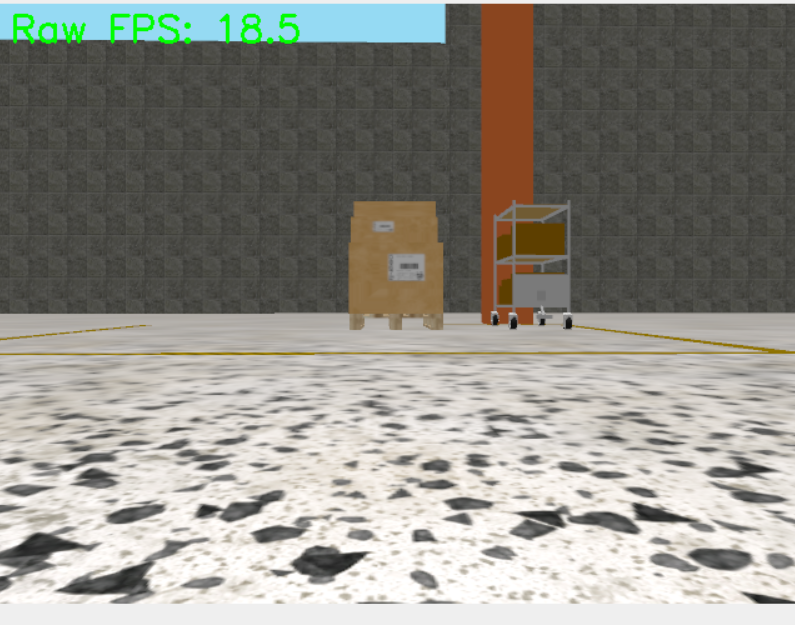barcode: (387, 253, 425, 281)
